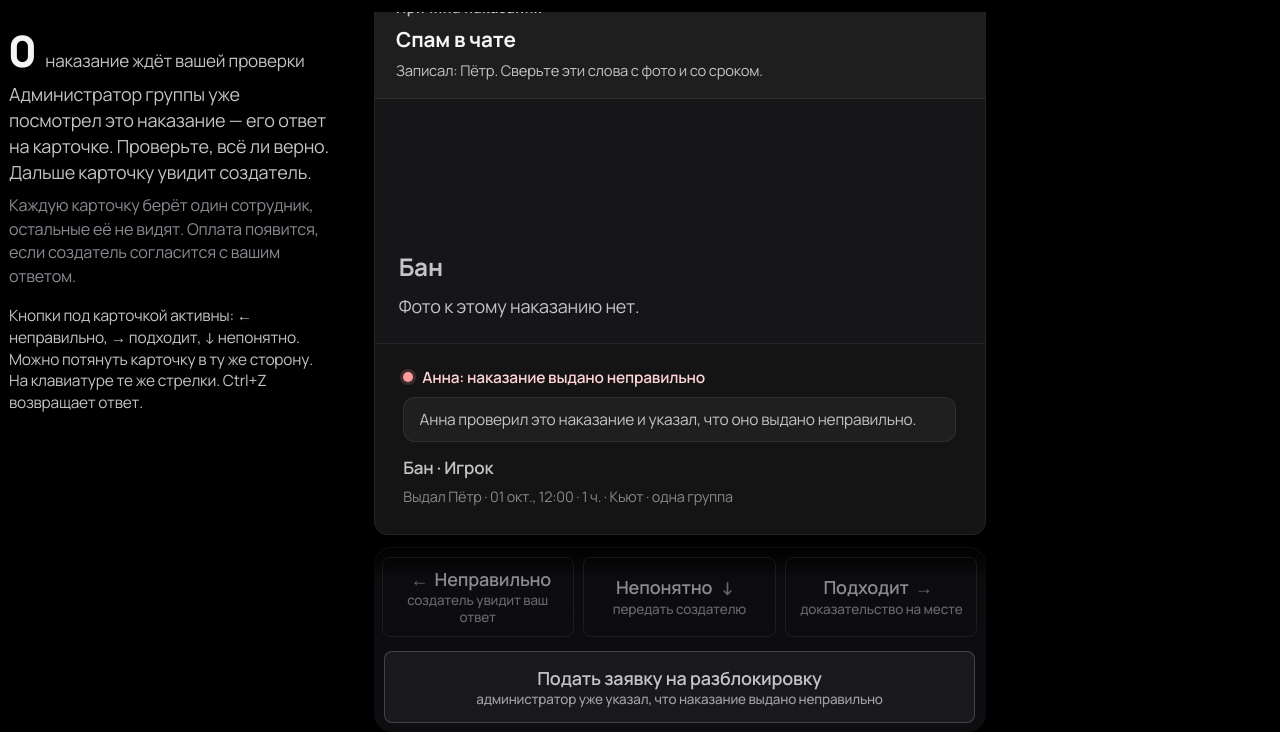
it: StaffDesk › files an unban request as its own action
(page scrolled)
Expected: the heading "Бан · Игрок" is shown, [403,456,493,479]
Step 1. Click the button "Подать заявку на разблокировку" → point(680, 688), box [384,652,975,724]
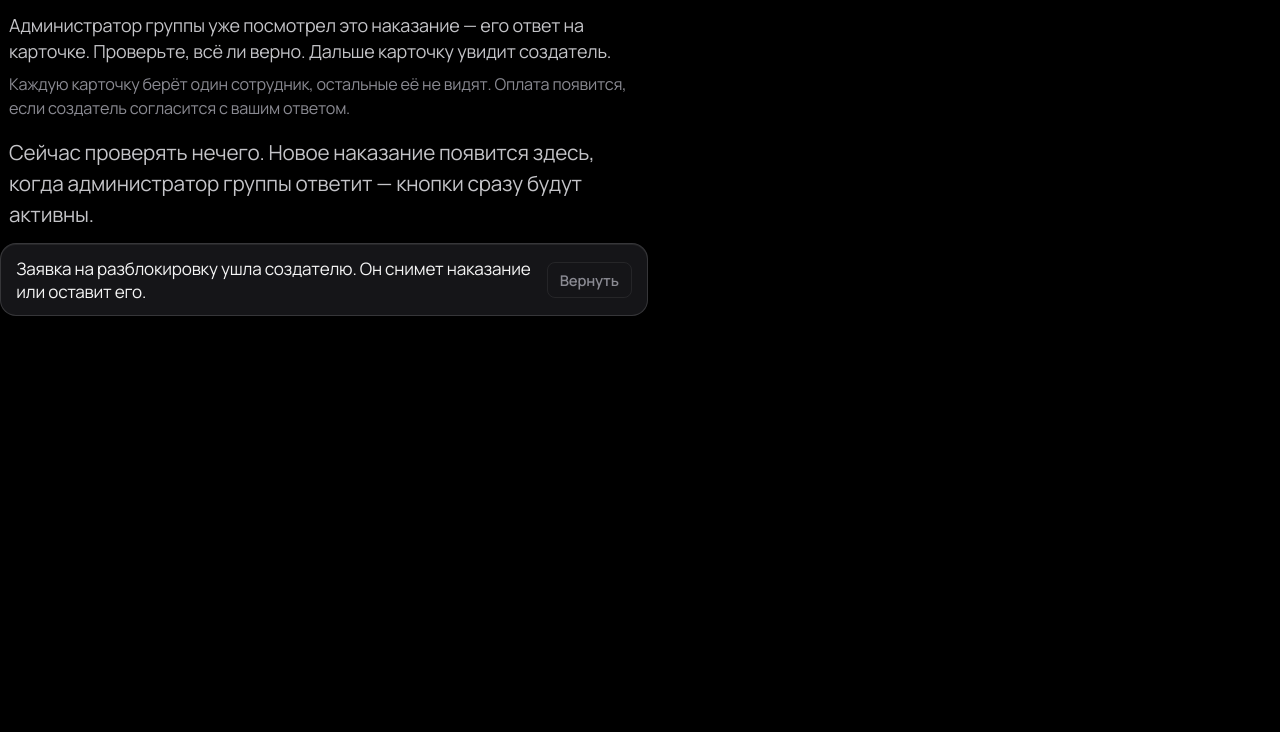
Expected: the text "Заявка на разблокировку ушла создателю" is shown, [16,257,530,303]
